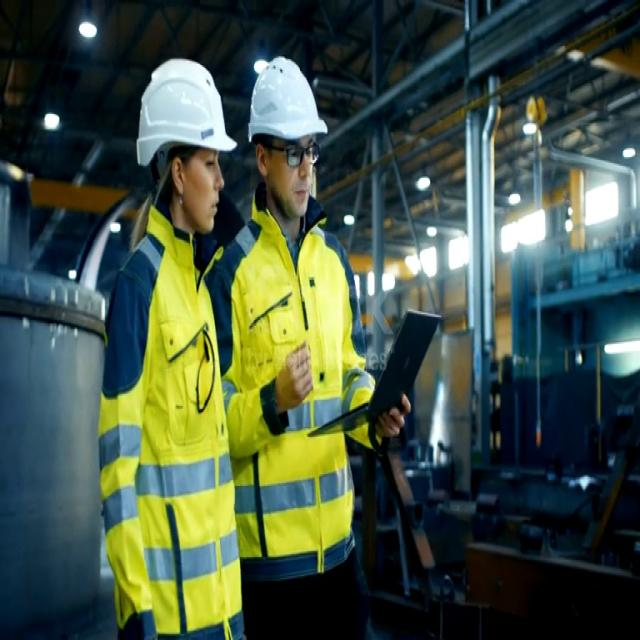capacete: (129, 55, 241, 162), (245, 51, 334, 148)
